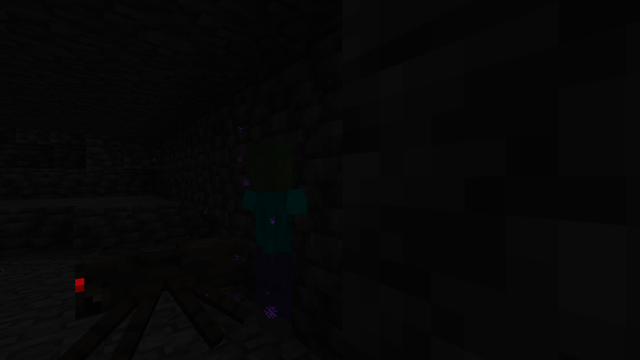araignees: (71, 226, 230, 357)
zombies: (242, 145, 293, 349)
